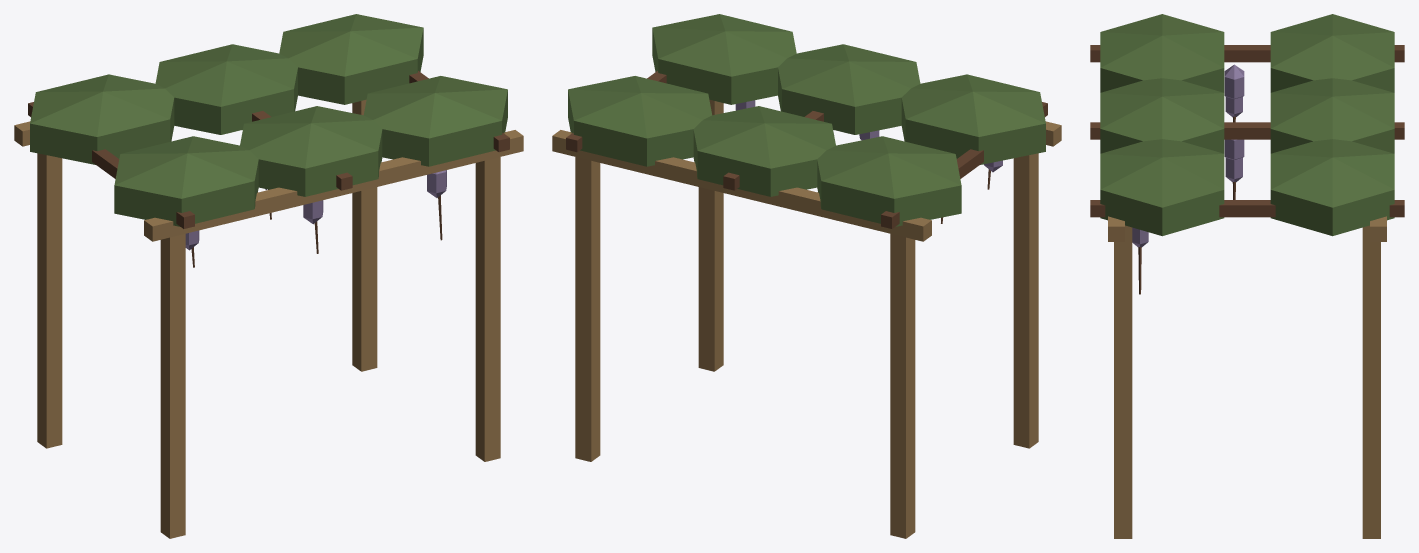
File: Environment_Feature_Rural_WisteriaPergola_001_LOD1.glb
3 renders of one model, left to right at view 1: azimuth 30°, elevation 25°; view 2: azimuth 150°, elevation 25°; view 3: azimuth 270°, elevation 25°, orthographic.
Parts seen in each view (by area): view 1: Environment_Feature_Rural_WisteriaPergola_001_LOD1; view 2: Environment_Feature_Rural_WisteriaPergola_001_LOD1; view 3: Environment_Feature_Rural_WisteriaPergola_001_LOD1.
Part boxes in pixels (x1,y1,x2,y2): Environment_Feature_Rural_WisteriaPergola_001_LOD1: (14,14,523,538); Environment_Feature_Rural_WisteriaPergola_001_LOD1: (552,14,1061,538); Environment_Feature_Rural_WisteriaPergola_001_LOD1: (1090,14,1404,538).
Size of the model in its own units: 3.5 by 3.04 by 2.4.
